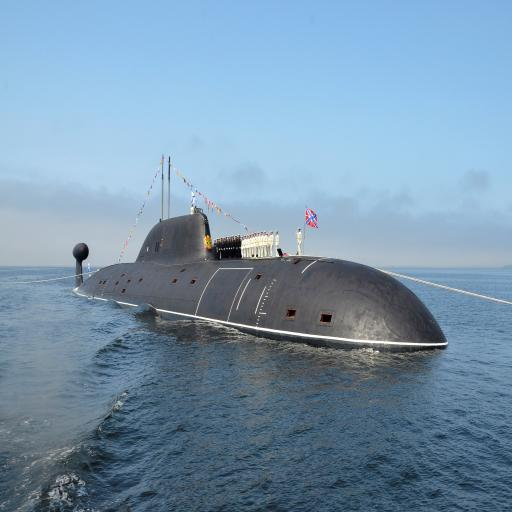submarine: (70, 147, 452, 359)
